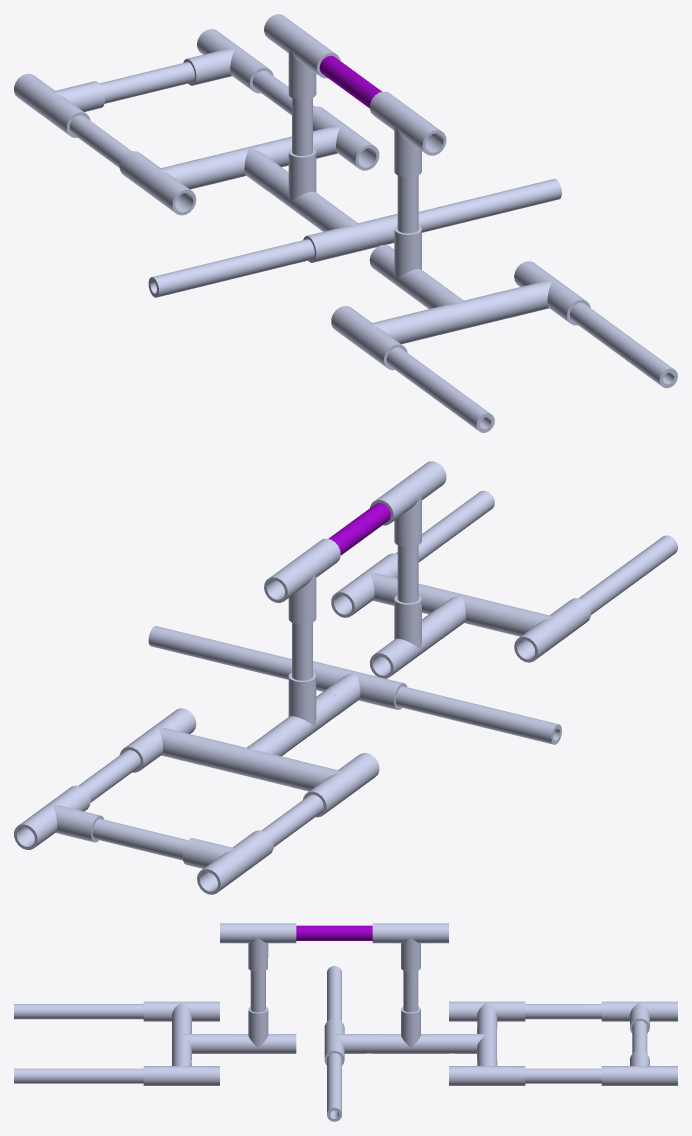
The model's file is Vampire_1.obj.
3 renders of one model, top to bottom at view 1: azimuth 30°, elevation 25°; view 2: azimuth 150°, elevation 25°; view 3: azimuth 270°, elevation 25°, orthographic. The views are drawn at different scales.
Parts seen in each view (by area): view 1: Bryła30, Bryła21, Bryła19, Bryła1, Bryła29, Bryła14, Bryła18, Bryła27, Bryła3, Bryła9, Bryła24, Bryła13 (+11 smaller); view 2: Bryła30, Bryła18, Bryła6, Bryła3, Bryła27, Bryła29, Bryła20, Bryła9, Bryła19, Bryła1, Bryła13, Bryła7 (+11 smaller); view 3: Bryła19, Bryła18, Bryła23, Bryła24, Bryła20, Bryła13, Bryła7, Bryła9, Bryła28, Bryła3, Bryła1, Bryła27 (+11 smaller).
Part boxes in pixels (x1=…): Bryła30: x1=148, y1=239, x2=314, y2=297; Bryła21: x1=413, y1=283, x2=513, y2=339; Bryła19: x1=369, y1=91, x2=446, y2=177; Bryła1: x1=119, y1=151, x2=210, y2=215; Bryła29: x1=418, y1=179, x2=561, y2=232; Bryła14: x1=303, y1=206, x2=397, y2=262; Bryła18: x1=264, y1=14, x2=340, y2=99; Bryła27: x1=331, y1=306, x2=421, y2=370; Bryła3: x1=14, y1=73, x2=104, y2=137; Bryła9: x1=183, y1=29, x2=273, y2=93; Bryła24: x1=386, y1=347, x2=494, y2=432; Bryła13: x1=264, y1=148, x2=335, y2=228; Bryła30: x1=395, y1=686, x2=561, y2=744; Bryła18: x1=264, y1=538, x2=340, y2=624; Bryła6: x1=197, y1=730, x2=298, y2=786; Bryła3: x1=182, y1=830, x2=273, y2=894; Bryła27: x1=500, y1=598, x2=590, y2=662; Bryła29: x1=148, y1=626, x2=291, y2=679; Bryła20: x1=369, y1=595, x2=446, y2=678; Bryła9: x1=14, y1=785, x2=104, y2=849; Bryła19: x1=370, y1=461, x2=446, y2=547; Bryła1: x1=288, y1=753, x2=379, y2=817; Bryła13: x1=269, y1=672, x2=340, y2=753; Bryła7: x1=119, y1=708, x2=205, y2=772; Bryła19: x1=220, y1=923, x2=296, y2=971; Bryła18: x1=372, y1=923, x2=448, y2=971; Bryła23: x1=14, y1=1068, x2=143, y2=1083; Bryła24: x1=14, y1=1004, x2=143, y2=1019; Bryła20: x1=220, y1=1007, x2=296, y2=1053; Bryła13: x1=372, y1=1006, x2=448, y2=1053; Bryła7: x1=449, y1=1051, x2=525, y2=1085; Bryła9: x1=601, y1=1051, x2=677, y2=1085; Bryła28: x1=143, y1=1051, x2=219, y2=1085; Bryła3: x1=601, y1=1001, x2=677, y2=1033; Bryła1: x1=449, y1=1001, x2=525, y2=1027; Bryła27: x1=143, y1=1001, x2=219, y2=1026.
Bounding box in the file's own units: 279 × 118 × 552.
